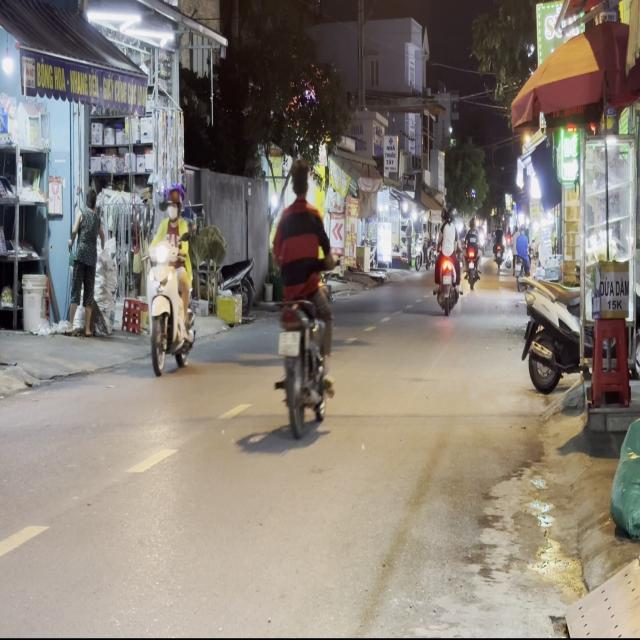helmet: (164, 183, 181, 218)
licenseplate: (270, 154, 336, 436), (144, 180, 197, 374)
motorcyclist: (288, 157, 310, 200)
nohelmet: (278, 330, 299, 354)
